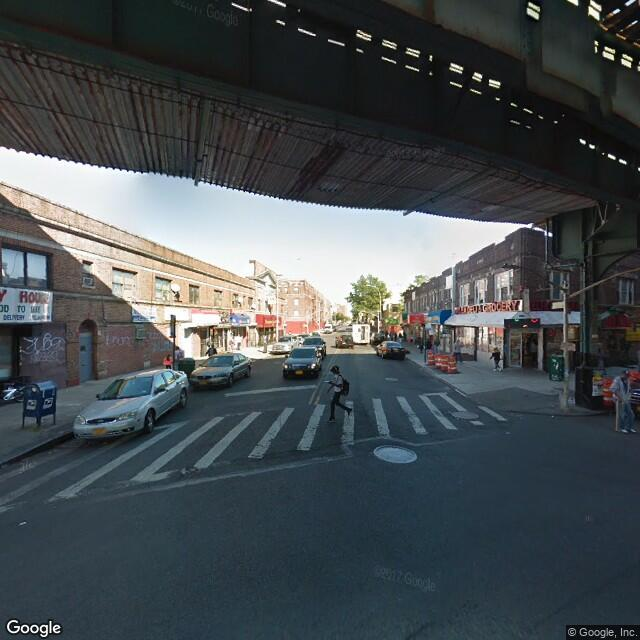litter: (18, 521, 27, 525), (550, 413, 556, 419)
